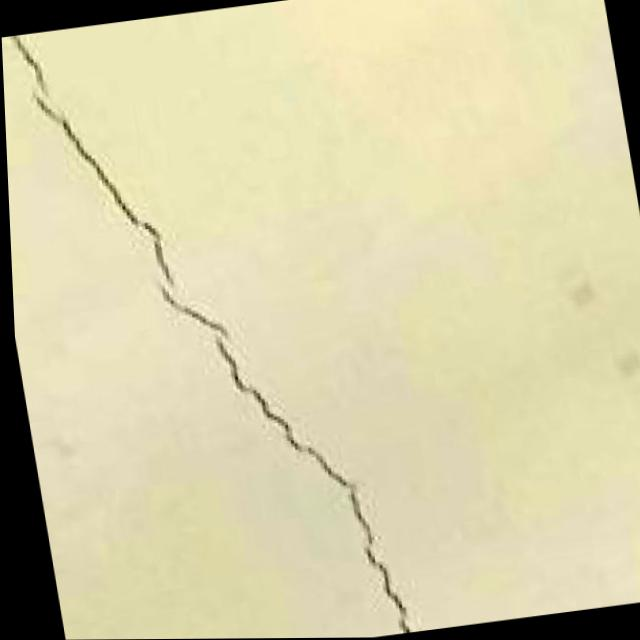Crack: (3, 0, 411, 640)
